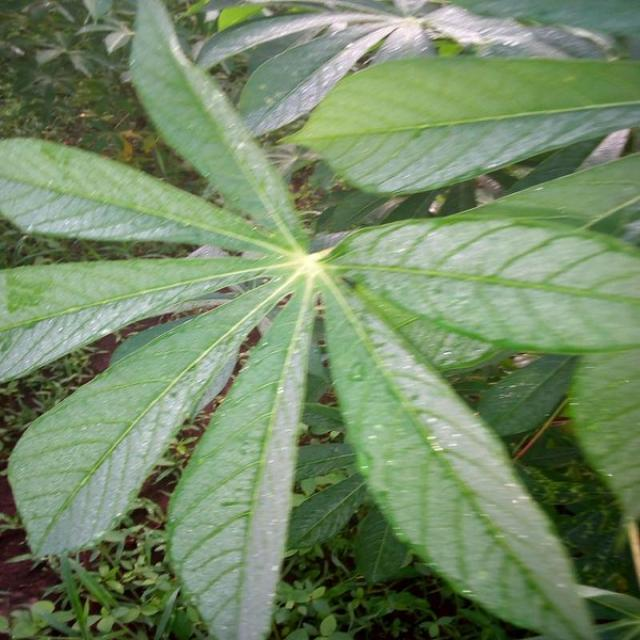cassava leaf: (0, 1, 638, 638), (277, 52, 639, 198)
